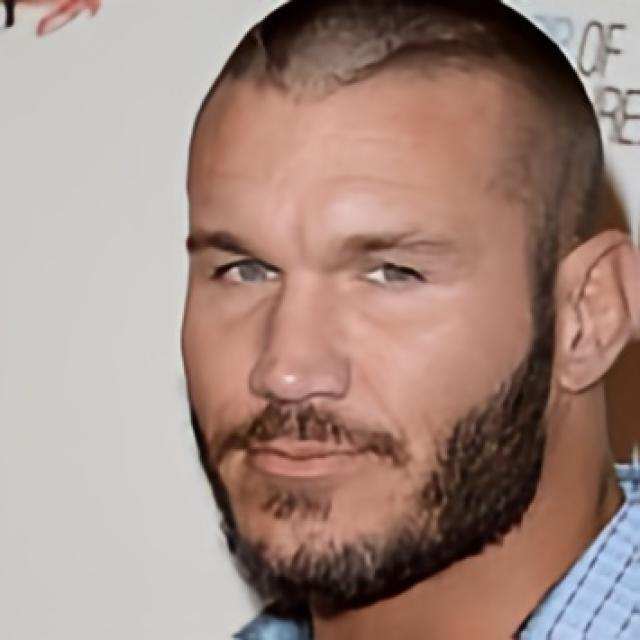content: (180, 51, 558, 614)
